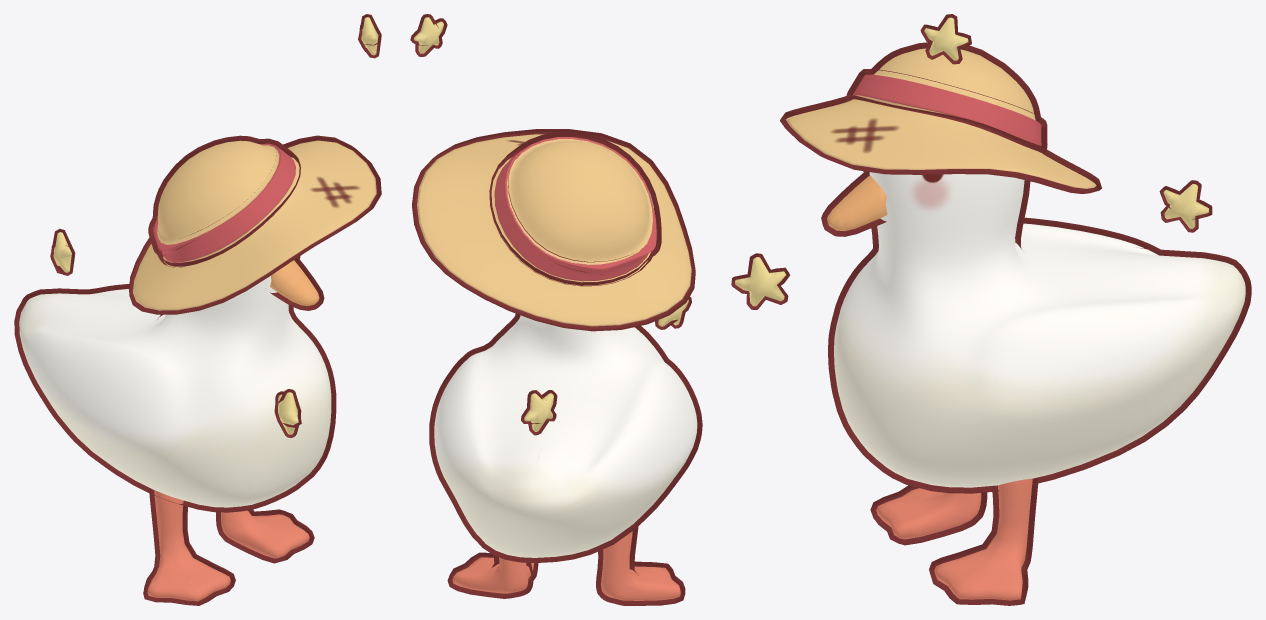
File: strawhat_duck.glb
3 renders of one model, left to right at view 1: azimuth 30°, elevation 25°; view 2: azimuth 150°, elevation 25°; view 3: azimuth 270°, elevation 25°, orthographic. The views are drawn at different scales.
Parts seen in each view (by area): view 1: Cube, Plane, Cube.001, Cube.002, Cube.005, Cube.004, Cube.003; view 2: Cube, Plane, Cube.001, Cube.004, Cube.003, Cube.005; view 3: Cube, Plane, Cube.001, Cube.002, Cube.005, Cube.004, Cube.003.
Part boxes in pixels (x1,y1,x2,y2): Cube: (14, 256, 336, 512); Plane: (129, 135, 381, 314); Cube.001: (143, 487, 314, 605); Cube.002: (265, 257, 324, 310); Cube.005: (274, 389, 301, 437); Cube.004: (50, 228, 75, 275); Cube.003: (358, 14, 381, 58); Cube: (429, 313, 702, 562); Plane: (412, 129, 695, 331); Cube.001: (447, 526, 685, 605); Cube.004: (521, 390, 557, 435); Cube.003: (410, 14, 447, 56); Cube.005: (655, 297, 691, 329); Cube: (828, 171, 1251, 493); Plane: (780, 42, 1101, 193); Cube.001: (870, 477, 1038, 605); Cube.002: (821, 171, 887, 236); Cube.005: (731, 253, 790, 309); Cube.004: (1159, 180, 1212, 232); Cube.003: (920, 14, 971, 64).
Bounding box in the file's own units: 0.462 × 0.8198 × 0.6163.
2 materials, 2 textured.
